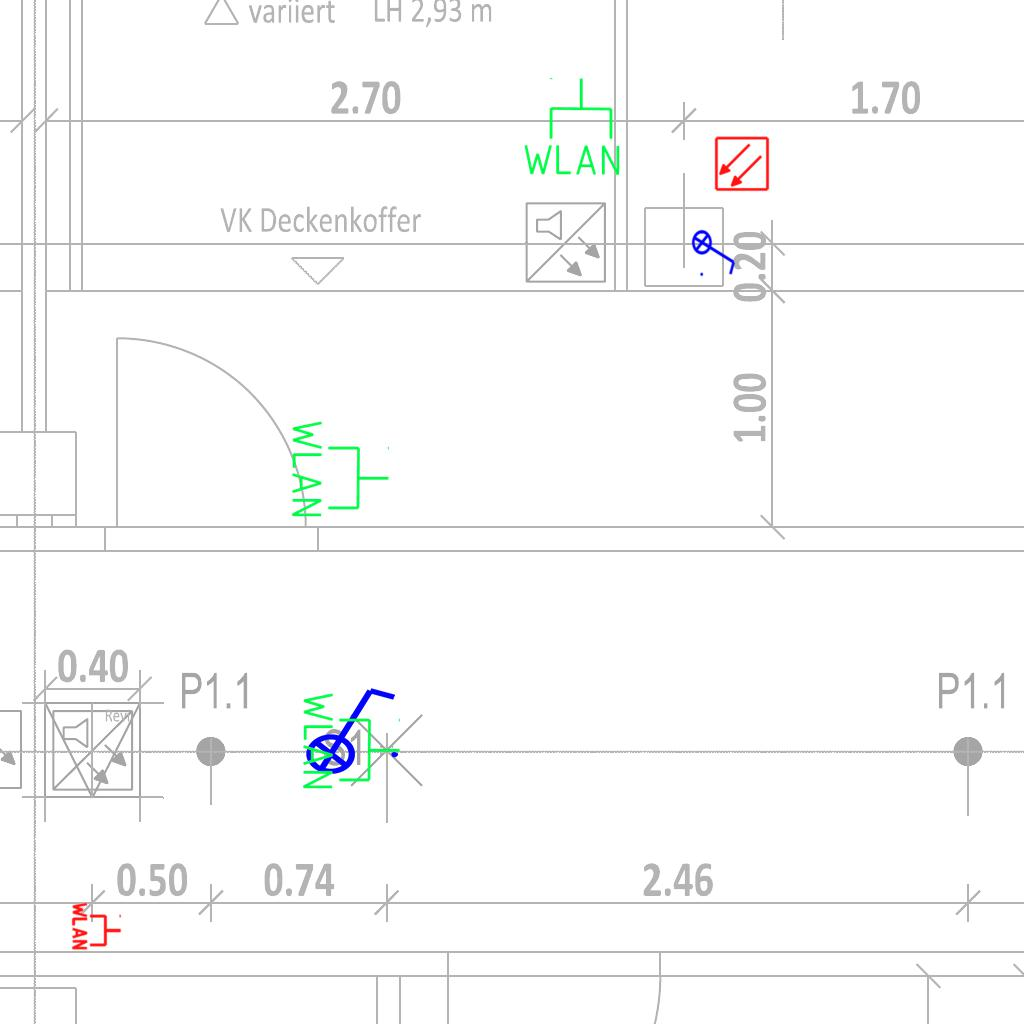Ausschalter_beleuchtet: (292, 680, 404, 776), (691, 223, 739, 279)
RMO_Rauchmelder_optischer: (714, 136, 770, 192)
WLAN: (288, 416, 392, 521), (519, 75, 624, 179), (299, 688, 403, 793), (71, 900, 123, 952)
